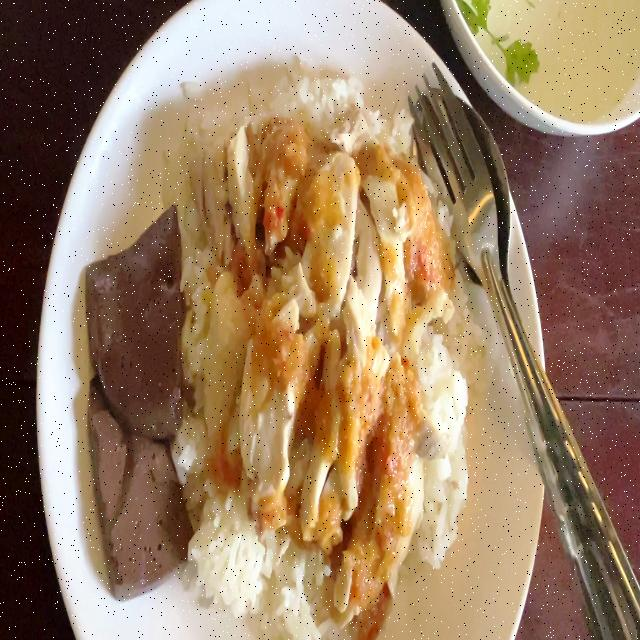boiled_chicken: (198, 120, 430, 545)
boiled_chicken_blood_jelly: (78, 203, 181, 430), (86, 376, 180, 578)
chicken_rice: (84, 69, 462, 640)
